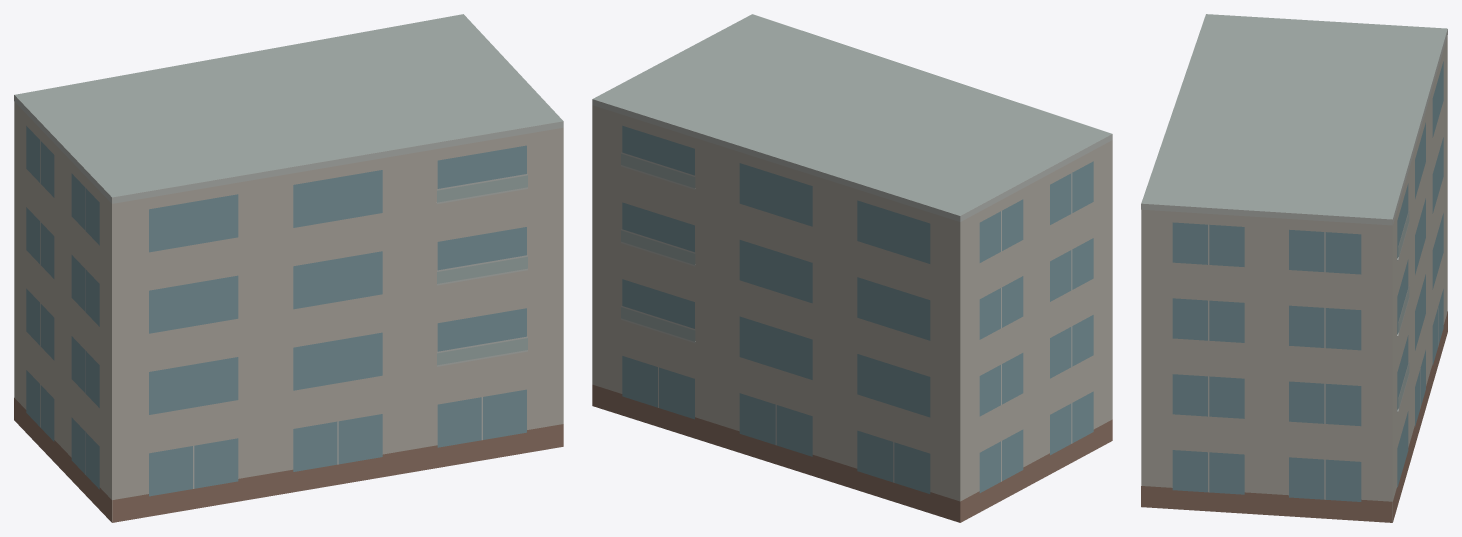
The model's file is survey-upis-32762589.glb.
The picture shows the model from 3 angles, left to right: view 1: azimuth 30°, elevation 25°; view 2: azimuth 150°, elevation 25°; view 3: azimuth 270°, elevation 25°; orthographic projection. The views are drawn at different scales.
Visible parts, largest first — view 1: survey-upis-32762589.tmp; view 2: survey-upis-32762589.tmp; view 3: survey-upis-32762589.tmp.
Boxes of the visible parts, left/top/right/bottom form: survey-upis-32762589.tmp: left=14, top=14, right=563, bottom=522; survey-upis-32762589.tmp: left=592, top=14, right=1112, bottom=522; survey-upis-32762589.tmp: left=1141, top=14, right=1447, bottom=522.
Size of the model in its own units: 18.02 by 12.4 by 11.37.
